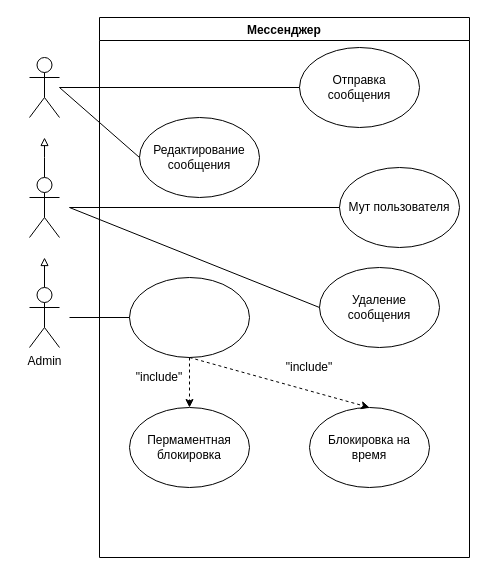
This 487x575 diagram has some shape labels left out. Each missing label, with the centre of its shape:
Client: pixel 44 87
Moderator: pixel 44 207
Блокировка пользователя: pixel 189 317
